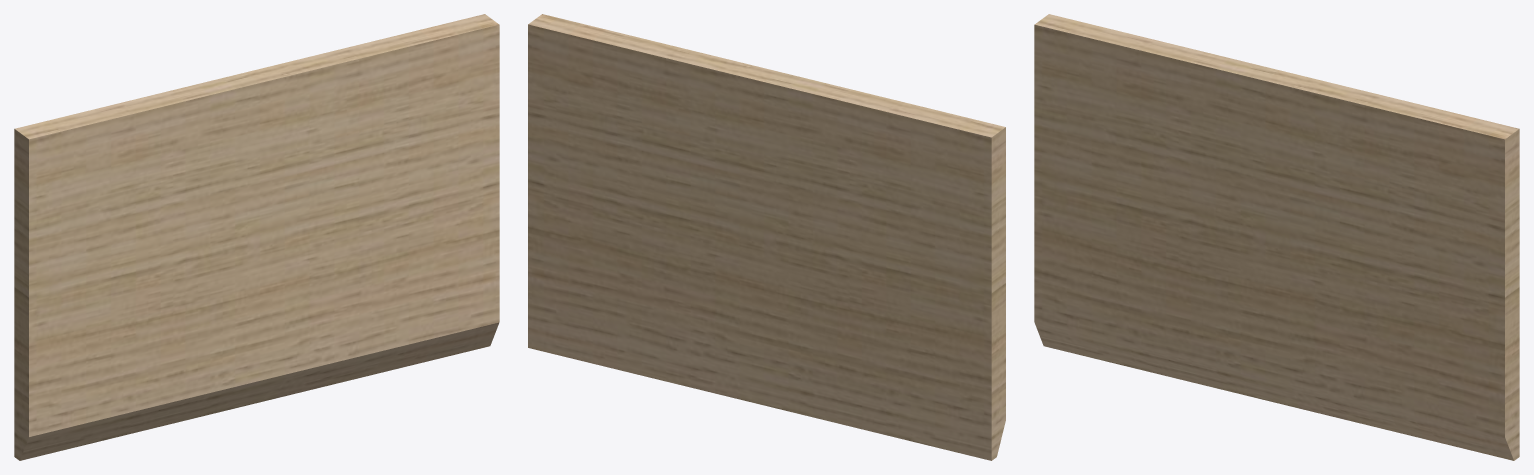
Rendered from dor_S9_dor_hoyre_2160.glb.
The picture shows the model from 3 angles, left to right: view 1: azimuth 30°, elevation 25°; view 2: azimuth 150°, elevation 25°; view 3: azimuth 330°, elevation 25°; orthographic projection.
Bounding box in the file's own units: 356 × 237 × 19.
1 material, 1 textured.
